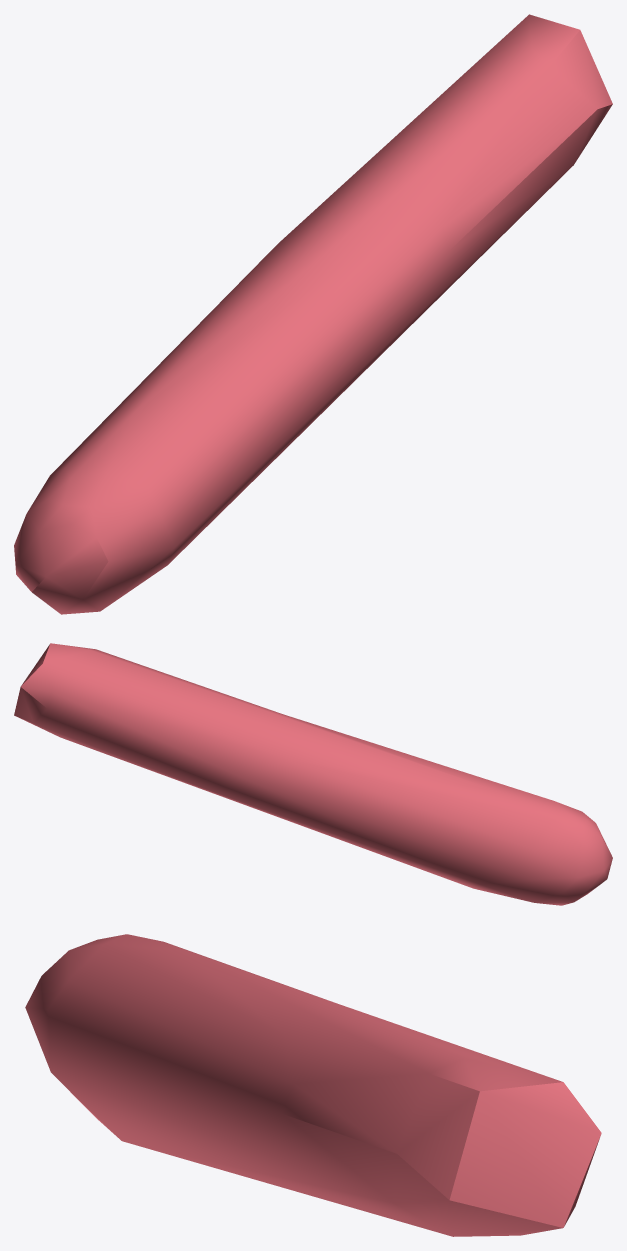
File: fma15394_fj3495.glb
3 renders of one model, top to bottom at view 1: azimuth 30°, elevation 25°; view 2: azimuth 150°, elevation 25°; view 3: azimuth 270°, elevation 25°, orthographic. The views are drawn at different scales.
Visible parts, largest first — view 1: FMA15394_FJ3495; view 2: FMA15394_FJ3495; view 3: FMA15394_FJ3495.
Part boxes in pixels (x1=…): FMA15394_FJ3495: x1=14, y1=14, x2=612, y2=614; FMA15394_FJ3495: x1=14, y1=643, x2=612, y2=905; FMA15394_FJ3495: x1=25, y1=934, x2=601, y2=1236.
Size of the model in its own units: 0.0114 by 0.00496 by 0.00593.
